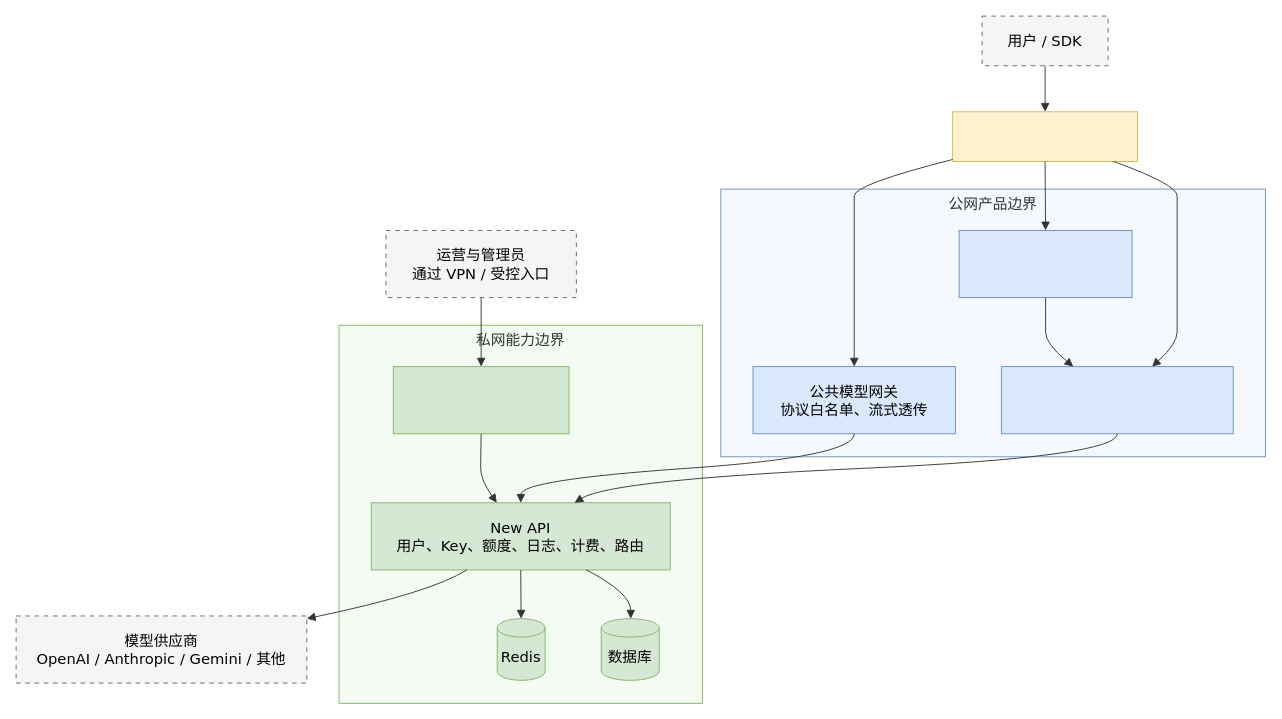
The diagram is 1282 pixels wide and 719 high, and some of its shapes have lost their labels. Here are the shapes that lost their labels. From the top down, the centre of each, then its label:
At [1045,136]: "CDN / WAF / HTTPS".
At [1045,264]: "自研 Web 前端 品牌、页面、文档".
At [480,400]: "New API 管理后台 仅 VPN / 运维访问".
At [1116,400]: "Portal API 认证适配、字段转换、聚合".
